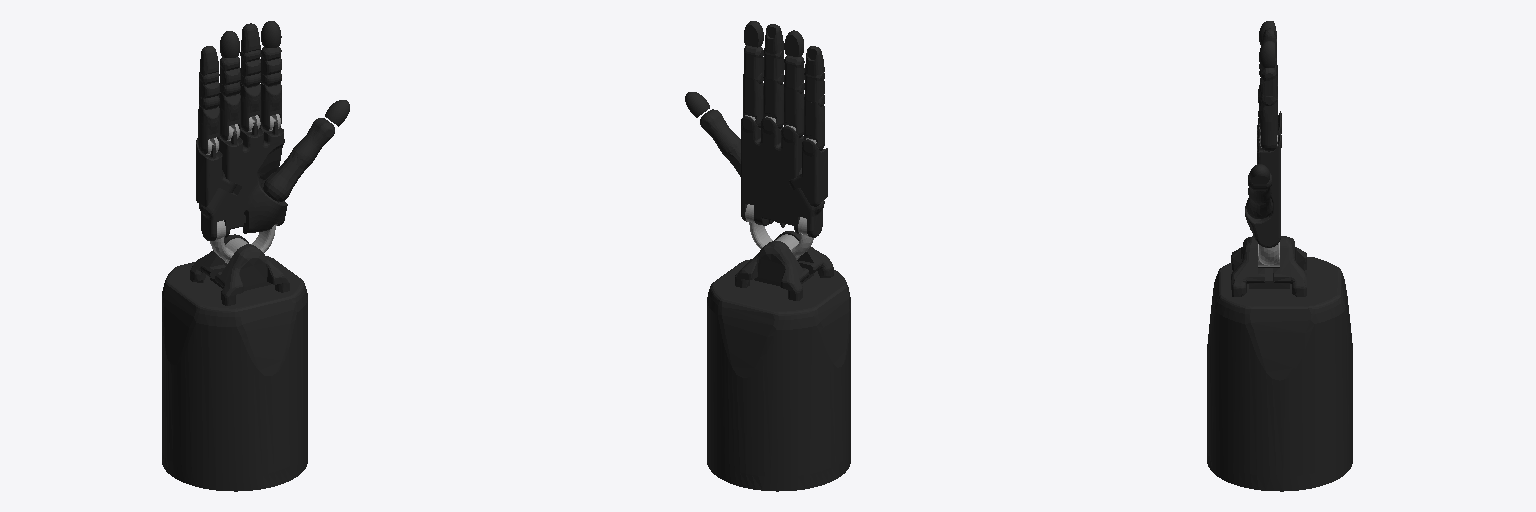
--- What the picture shows (computed from the rendered views, not written in the file) ---
Views: 3 orthographic renders of the robot side by side, from view 1: azimuth 30°, elevation 25°; view 2: azimuth 150°, elevation 25°; view 3: azimuth 270°, elevation 25°.
Model shadowhand with 30 links and 29 joints (24 revolute, 5 fixed), rooted at forearm, posed all joints at 0.
Links seen in each view (by area): view 1: forearm, palm, lfmetacarpal, thproximal, thmiddle, wrist, lfproximal, ffproximal, rfproximal, ffmiddle, rfmiddle, mfproximal (+2 smaller); view 2: forearm, palm, lfmetacarpal, wrist, thmiddle, lfproximal, mfproximal, rfproximal, ffproximal, rfmiddle, ffmiddle, mfmiddle (+1 smaller); view 3: forearm, palm, ffproximal, ffmiddle.
Boxes of the visible links, left/top/right/bottom form: forearm: left=162, top=234, right=307, bottom=491; palm: left=199, top=122, right=287, bottom=240; lfmetacarpal: left=196, top=138, right=236, bottom=206; thproximal: left=263, top=150, right=308, bottom=202; thmiddle: left=293, top=118, right=334, bottom=165; wrist: left=210, top=220, right=277, bottom=263; lfproximal: left=198, top=105, right=219, bottom=154; ffproximal: left=260, top=82, right=281, bottom=130; rfproximal: left=219, top=92, right=240, bottom=140; ffmiddle: left=261, top=47, right=281, bottom=86; rfmiddle: left=220, top=57, right=240, bottom=96; mfproximal: left=240, top=82, right=260, bottom=131; forearm: left=707, top=231, right=850, bottom=491; palm: left=741, top=116, right=824, bottom=237; lfmetacarpal: left=788, top=139, right=827, bottom=206; wrist: left=745, top=204, right=813, bottom=259; thmiddle: left=700, top=109, right=740, bottom=156; lfproximal: left=804, top=101, right=824, bottom=150; mfproximal: left=763, top=79, right=783, bottom=128; rfproximal: left=784, top=87, right=804, bottom=137; ffproximal: left=743, top=78, right=763, bottom=127; rfmiddle: left=784, top=55, right=804, bottom=93; ffmiddle: left=743, top=45, right=763, bottom=83; mfmiddle: left=763, top=50, right=784, bottom=84; forearm: left=1207, top=236, right=1352, bottom=491; palm: left=1245, top=113, right=1281, bottom=247; ffproximal: left=1258, top=99, right=1277, bottom=151; ffmiddle: left=1259, top=66, right=1277, bottom=105.
Size in the robot's own frame: 0.1788 by 0.1351 by 0.4454 metres.
Meshes: 11 distinct files referenced, 23 mesh visuals loaded (11 Collada DAE).

The robot description file, URDF, robot "shadowhand":
<?xml version="1.0" ?>
<robot name="shadowhand">
  <material name="Blue">
    <color rgba="0.0 0.0 0.8 1.0" />
  </material>
  <material name="Green">
    <color rgba="0.0 0.8 0.0 1.0" />
  </material>
  <material name="Grey">
    <color rgba="0.2 0.2 0.2 1.0" />
  </material>
  <material name="LightGrey">
    <color rgba="0.6 0.6 0.6 1.0" />
  </material>
  <material name="Red">
    <color rgba="0.8 0.0 0.0 1.0" />
  </material>
  <material name="White">
    <color rgba="1.0 1.0 1.0 1.0" />
  </material>
  <link name="forearm">
    <inertial>
      <origin rpy="0 0 0" xyz="0 0 0.09" />
      <mass value="3.0" />
      <inertia ixx="1.0" ixy="0.0" ixz="0.0" iyy="1.0" iyz="0.0" izz="1.0" />
    </inertial>
    <visual>
      <origin rpy="0 0 0" xyz="0 0 0" />
      <geometry name="shadow_forearm_geom">
        <mesh filename="meshes/forearm.dae"/>
      </geometry>
      <material name="Grey" />
    </visual>
    <collision>
      <origin rpy="0 0 0" xyz="0 0 0.09" />
      <geometry name="shadow_forearm_collision">
        <cylinder length="0.180" radius="0.06" />
      </geometry>
    </collision>
  </link>
  <link name="wrist">
    <inertial>
      <origin rpy="0 0 0" xyz="0 0.0 0.0" />
      <mass value="0.1" />
      <inertia ixx="0.120" ixy="0.0" ixz="0.0" iyy="0.148" iyz="0.0" izz="0.0438" />
    </inertial>
    <visual>
      <origin rpy="0 0 0" xyz="0 0 0" />
      <geometry name="wrist_visual">
        <mesh filename="meshes/wrist.dae"/>
      </geometry>
      <material name="LightGrey" />
    </visual>
    <collision>
      <origin rpy="0 0 0" xyz="0 0 0" />
      <geometry name="wrist_collision_geom">
        <box size="0.02 0.02 0.02" />
      </geometry>
    </collision>
  </link>
  <joint name="WRJ2" type="revolute">
    <parent link="forearm" />
    <child link="wrist" />
    <origin rpy="0 0 0" xyz="0 -0.010 0.213" />
    <axis xyz="0 1 0" />
    <limit effort="5" lower="-0.52359877559829882" upper="0.17453292519943295" velocity="1.0" />
    <dynamics damping="100.5" />
  </joint>
  <link name="palm">
    <inertial>
      <origin rpy="0 0 0" xyz="0 0 0.035" />
      <mass value="0.3" />
      <inertia ixx="0.5" ixy="0.0" ixz="0.0" iyy="0.5" iyz="0.0" izz="0.3" />
    </inertial>
    <visual>
      <origin rpy="0 0 0" xyz="0 0 0" />
      <geometry name="palm_visual">
        <mesh filename="meshes/palm.dae"/>
      </geometry>
      <material name="Grey" />
    </visual>
    <collision>
      <origin rpy="0 0 0" xyz="0.005 0 0.035" />
      <geometry name="palm_collision_geom">
        <box size="0.05 0.02 0.07" />
      </geometry>
    </collision>
  </link>
  <joint name="WRJ1" type="revolute">
    <parent link="wrist" />
    <child link="palm" />
    <origin rpy="0 0 0" xyz="0 0 0.034" />
    <axis xyz="1 0 0" />
    <limit effort="5" lower="-0.78539816339744828" upper="0.6108652381980153" velocity="1.0" />
    <dynamics damping="100.5" />
  </joint>
  <link name="ffknuckle">
    <inertial>
      <origin rpy="0 0 0" xyz="0 0 0" />
      <mass value="0.008" />
      <inertia ixx="0.0" ixy="0.0" ixz="0.0" iyy="0.1" iyz="0.0" izz="0.0" />
    </inertial>
    <visual>
      <origin rpy="0 0 0" xyz="0 0 0.0005" />
      <geometry name="knuckle_visual">
        <mesh filename="meshes/knuckle.dae"/>
      </geometry>
      <material name="LightGrey" />
    </visual>
    <collision>
      <origin rpy="0 0 0" xyz="0 0 0" />
      <geometry name="knuckle_collision_geom">
        <box size="0.005 0.005 0.005" />
      </geometry>
    </collision>
  </link>
  <joint name="FFJ4" type="revolute">
    <parent link="palm" />
    <child link="ffknuckle" />
    <origin rpy="0 0 0" xyz="0.033 0 0.095" />
    <axis xyz="0 -1 0" />
    <limit effort="100" lower="-0.43633231299858238" upper="0.43633231299858238" velocity="1.0" />
    <dynamics damping="50.5" />
  </joint>
  <link name="ffproximal">
    <inertial>
      <mass value="0.014" />
      <origin xyz="0 0 0.0225" />
      <inertia ixx="0.1" ixy="0.0" ixz="0.0" iyy="0.1" iyz="0.0" izz="0.0" />
    </inertial>
    <visual>
      <origin rpy="0 0 0" xyz="0 0 0" />
      <geometry name="proximal_visual">
        <mesh filename="meshes/F3.dae"/>
      </geometry>
      <material name="Grey" />
    </visual>
    <collision>
      <origin rpy="0 0 0 " xyz="0 0 0.025" />
      <geometry name="proximal_collision_geom">
        <box size="0.008 0.008 0.04" />
      </geometry>
    </collision>
  </link>
  <joint name="FFJ3" type="revolute">
    <parent link="ffknuckle" />
    <child link="ffproximal" />
    <origin rpy="0 0 0" xyz="0 0 0" />
    <axis xyz="1 0 0" />
    <limit effort="100" lower="0" upper="1.57079632679" velocity="1.0" />
    <dynamics damping="50.5" />
  </joint>
  <link name="ffmiddle">
    <inertial>
      <origin rpy="0 0 0" xyz="0 0 0.0125" />
      <mass value="0.012" />
      <inertia ixx="0.1" ixy="0.0" ixz="0.0" iyy="0.1" iyz="0.0" izz="0.0" />
    </inertial>
    <visual>
      <origin rpy="0 0 0" xyz="0 0 0" />
      <geometry name="middle_visual">
        <mesh filename="meshes/F2.dae"/>
      </geometry>
      <material name="Grey" />
    </visual>
    <collision>
      <origin rpy="0 0 0" xyz="0 0 0.0125" />
      <geometry name="middle_collision_geom">
        <box size="0.008 0.008 0.015" />
      </geometry>
    </collision>
  </link>
  <joint name="FFJ2" type="revolute">
    <parent link="ffproximal" />
    <child link="ffmiddle" />
    <origin rpy="0 0 0" xyz="0 0 0.045" />
    <axis xyz="1 0 0" />
    <limit effort="100" lower="0" upper="1.57079632679" velocity="1.0" />
    <dynamics damping="50.5" />
  </joint>
  <link name="ffdistal">
    <inertial>
      <mass value="0.010" />
      <origin xyz="0 0 0.013" />
      <inertia ixx="0.1" ixy="0.0" ixz="0.0" iyy="0.1" iyz="0.0" izz="0.0" />
    </inertial>
    <visual>
      <origin rpy="0 0 0" xyz="0 0 0" />
      <geometry name="distal_visual">
        <mesh filename="meshes/distal_ellipsoid.dae"/>
      </geometry>
      <material name="Grey" />
    </visual>
    <collision>
      <origin rpy="0 0 0" xyz="0 0 0" />
      <geometry name="distal_collision_geom">
        <mesh filename="meshes/distal_ellipsoid.dae"/>
      </geometry>
    </collision>
  </link>
  <joint name="FFJ1" type="revolute">
    <parent link="ffmiddle" />
    <child link="ffdistal" />
    <origin rpy="0 0 0" xyz="0 0 0.025" />
    <axis xyz="1 0 0" />
    <limit effort="100" lower="0" upper="1.57079632679" velocity="1.0" />
    <dynamics damping="50.5" />
  </joint>
  <link name="fftip">
    <inertial>
      <mass value="0.001" />
      <inertia ixx="0.0" ixy="0.0" ixz="0.0" iyy="0.0" iyz="0.0" izz="0.0" />
    </inertial>
  </link>
  <joint name="FFtip" type="fixed">
    <parent link="ffdistal" />
    <child link="fftip" />
    <origin rpy="0 0 0" xyz="0 0 0.026" />
  </joint>
  <link name="mfknuckle">
    <inertial>
      <origin rpy="0 0 0" xyz="0 0 0" />
      <mass value="0.008" />
      <inertia ixx="0.0" ixy="0.0" ixz="0.0" iyy="0.1" iyz="0.0" izz="0.0" />
    </inertial>
    <visual>
      <origin rpy="0 0 0" xyz="0 0 0.0005" />
      <geometry name="knuckle_visual">
        <mesh filename="meshes/knuckle.dae"/>
      </geometry>
      <material name="LightGrey" />
    </visual>
    <collision>
      <origin rpy="0 0 0" xyz="0 0 0" />
      <geometry name="knuckle_collision_geom">
        <box size="0.005 0.005 0.005" />
      </geometry>
    </collision>
  </link>
  <joint name="MFJ4" type="revolute">
    <parent link="palm" />
    <child link="mfknuckle" />

    <origin rpy="0 0 0" xyz="0.011 0 0.099" />
    <axis xyz="0 -1 0" />
    <limit effort="100" lower="-0.43633231299858238" upper="0.43633231299858238" velocity="1.0" />
    <dynamics damping="50.5" />
  </joint>
  <link name="mfproximal">
    <inertial>
      <mass value="0.014" />
      <origin xyz="0 0 0.0225" />
      <inertia ixx="0.1" ixy="0.0" ixz="0.0" iyy="0.1" iyz="0.0" izz="0.0" />
    </inertial>
    <visual>
      <origin rpy="0 0 0" xyz="0 0 0" />
      <geometry name="proximal_visual">
        <mesh filename="meshes/F3.dae"/>
      </geometry>
      <material name="Grey" />
    </visual>
    <collision>
      <origin rpy="0 0 0 " xyz="0 0 0.025" />
      <geometry name="proximal_collision_geom">
        <box size="0.008 0.008 0.04" />
      </geometry>
    </collision>
  </link>
  <joint name="MFJ3" type="revolute">
    <parent link="mfknuckle" />
    <child link="mfproximal" />
    <origin rpy="0 0 0" xyz="0 0 0" />
    <axis xyz="1 0 0" />
    <limit effort="100" lower="0" upper="1.57079632679" velocity="1.0" />
    <dynamics damping="50.5" />
  </joint>
  <link name="mfmiddle">
    <inertial>
      <origin rpy="0 0 0" xyz="0 0 0.0125" />
      <mass value="0.012" />
      <inertia ixx="0.1" ixy="0.0" ixz="0.0" iyy="0.1" iyz="0.0" izz="0.0" />
    </inertial>
    <visual>
      <origin rpy="0 0 0" xyz="0 0 0" />
      <geometry name="middle_visual">
        <mesh filename="meshes/F2.dae"/>
      </geometry>
      <material name="Grey" />
    </visual>
    <collision>
      <origin rpy="0 0 0" xyz="0 0 0.0125" />
      <geometry name="middle_collision_geom">
        <box size="0.008 0.008 0.015" />
      </geometry>
    </collision>
  </link>
  <joint name="MFJ2" type="revolute">
    <parent link="mfproximal" />
    <child link="mfmiddle" />
    <origin rpy="0 0 0" xyz="0 0 0.045" />
    <axis xyz="1 0 0" />
    <limit effort="100" lower="0" upper="1.57079632679" velocity="1.0" />
    <dynamics damping="50.5" />
  </joint>
  <link name="mfdistal">
    <inertial>
      <mass value="0.010" />
      <origin xyz="0 0 0.013" />
      <inertia ixx="0.1" ixy="0.0" ixz="0.0" iyy="0.1" iyz="0.0" izz="0.0" />
    </inertial>
    <visual>
      <origin rpy="0 0 0" xyz="0 0 0" />
      <geometry name="distal_visual">
        <mesh filename="meshes/F1.dae"/>
      </geometry>
      <material name="Grey" />
    </visual>
    <collision>
      <origin rpy="0 0 0" xyz="0 0 0" />
      <geometry name="distal_collision_geom">
        <mesh filename="meshes/F1.dae"/>
      </geometry>
    </collision>
  </link>
  <joint name="MFJ1" type="revolute">
    <parent link="mfmiddle" />
    <child link="mfdistal" />
    <origin rpy="0 0 0" xyz="0 0 0.025" />
    <axis xyz="1 0 0" />
    <limit effort="100" lower="0" upper="1.57079632679" velocity="1.0" />
    <dynamics damping="50.5" />
  </joint>
  <link name="mftip">
    <inertial>
      <mass value="0.001" />
      <inertia ixx="0.0" ixy="0.0" ixz="0.0" iyy="0.0" iyz="0.0" izz="0.0" />
    </inertial>
  </link>
  <joint name="MFtip" type="fixed">
    <parent link="mfdistal" />
    <child link="mftip" />
    <origin rpy="0 0 0" xyz="0 0 0.026" />
  </joint>
  <link name="rfknuckle">
    <inertial>
      <origin rpy="0 0 0" xyz="0 0 0" />
      <mass value="0.008" />
      <inertia ixx="0.0" ixy="0.0" ixz="0.0" iyy="0.1" iyz="0.0" izz="0.0" />
    </inertial>
    <visual>
      <origin rpy="0 0 0" xyz="0 0 0.0005" />
      <geometry name="knuckle_visual">
        <mesh filename="meshes/knuckle.dae"/>
      </geometry>
      <material name="LightGrey" />
    </visual>
    <collision>
      <origin rpy="0 0 0" xyz="0 0 0" />
      <geometry name="knuckle_collision_geom">
        <box size="0.005 0.005 0.005" />
      </geometry>
    </collision>
  </link>
  <joint name="RFJ4" type="revolute">
    <parent link="palm" />
    <child link="rfknuckle" />
    <origin rpy="0 0 0" xyz="-0.011 0 0.095" />
    <axis xyz="0 1 0" />
    <limit effort="100" lower="-0.43633231299858238" upper="0.43633231299858238" velocity="1.0" />
    <dynamics damping="50.5" />
  </joint>
  <link name="rfproximal">
    <inertial>
      <mass value="0.014" />
      <origin xyz="0 0 0.0225" />
      <inertia ixx="0.1" ixy="0.0" ixz="0.0" iyy="0.1" iyz="0.0" izz="0.0" />
    </inertial>
    <visual>
      <origin rpy="0 0 0" xyz="0 0 0" />
      <geometry name="proximal_visual">
        <mesh filename="meshes/F3.dae"/>
      </geometry>
      <material name="Grey" />
    </visual>
    <collision>
      <origin rpy="0 0 0 " xyz="0 0 0.025" />
      <geometry name="proximal_collision_geom">
        <box size="0.008 0.008 0.04" />
      </geometry>
    </collision>
  </link>
  <joint name="RFJ3" type="revolute">
    <parent link="rfknuckle" />
    <child link="rfproximal" />
    <origin rpy="0 0 0" xyz="0 0 0" />
    <axis xyz="1 0 0" />
    <limit effort="100" lower="0" upper="1.57079632679" velocity="1.0" />
    <dynamics damping="50.5" />
  </joint>
  <link name="rfmiddle">
    <inertial>
      <origin rpy="0 0 0" xyz="0 0 0.0125" />
      <mass value="0.012" />
      <inertia ixx="0.1" ixy="0.0" ixz="0.0" iyy="0.1" iyz="0.0" izz="0.0" />
    </inertial>
    <visual>
      <origin rpy="0 0 0" xyz="0 0 0" />
      <geometry name="middle_visual">
        <mesh filename="meshes/F2.dae"/>
      </geometry>
      <material name="Grey" />
    </visual>
    <collision>
      <origin rpy="0 0 0" xyz="0 0 0.0125" />
      <geometry name="middle_collision_geom">
        <box size="0.008 0.008 0.015" />
      </geometry>
    </collision>
  </link>
  <joint name="RFJ2" type="revolute">
    <parent link="rfproximal" />
    <child link="rfmiddle" />
    <origin rpy="0 0 0" xyz="0 0 0.045" />
    <axis xyz="1 0 0" />
    <limit effort="100" lower="0" upper="1.57079632679" velocity="1.0" />
    <dynamics damping="50.5" />
  </joint>
  <link name="rfdistal">
    <inertial>
      <mass value="0.010" />
      <origin xyz="0 0 0.013" />
      <inertia ixx="0.1" ixy="0.0" ixz="0.0" iyy="0.1" iyz="0.0" izz="0.0" />
    </inertial>
    <visual>
      <origin rpy="0 0 0" xyz="0 0 0" />
      <geometry name="distal_visual">
        <mesh filename="meshes/distal_ellipsoid.dae"/>
      </geometry>
      <material name="Grey" />
    </visual>

    <collision>
      <origin rpy="0 0 0" xyz="0 0 0" />
      <geometry name="distal_collision_geom">
        <mesh filename="meshes/distal_ellipsoid.dae"/>
      </geometry>
    </collision>
  </link>
  <joint name="RFJ1" type="revolute">
    <parent link="rfmiddle" />
    <child link="rfdistal" />
    <origin rpy="0 0 0" xyz="0 0 0.025" />
    <axis xyz="1 0 0" />
    <limit effort="100" lower="0" upper="1.57079632679" velocity="1.0" />
    <dynamics damping="50.5" />
  </joint>
  <link name="rftip">
    <inertial>
      <mass value="0.001" />
      <inertia ixx="0.0" ixy="0.0" ixz="0.0" iyy="0.0" iyz="0.0" izz="0.0" />
    </inertial>
  </link>
  <joint name="RFtip" type="fixed">
    <parent link="rfdistal" />
    <child link="rftip" />
    <origin rpy="0 0 0" xyz="0 0 0.026" />
  </joint>
  <link name="lfmetacarpal">
    <inertial>
      <origin rpy="0 0 0" xyz="0 0 0.04" />
      <mass value="0.075" />
      <inertia ixx="0.1" ixy="0.0" ixz="0.0" iyy="0.1" iyz="0.0" izz="0.1" />
    </inertial>
    <visual>
      <origin rpy="0 0 0" xyz="0 0 0" />
      <geometry name="lfmetacarpal_visual">
        <mesh filename="meshes/lfmetacarpal.dae"/>
      </geometry>
      <material name="Grey" />
    </visual>
    <collision>
      <origin rpy="0 0 0" xyz="0 0 0.04" />
      <geometry name="lfmetacarpal_collision_geom">
        <box size="0.008 0.008 0.03" />
      </geometry>
    </collision>
  </link>
  <joint name="LFJ5" type="revolute">
    <parent link="palm" />
    <child link="lfmetacarpal" />
    <origin rpy="0 0 0" xyz="-0.033 0 0.02071" />
    <axis xyz="0.573576436 0 0.819152044" />
    <limit effort="100" lower="0" upper="0.69813170079773179" velocity="1.0" />
    <dynamics damping="50.5" />
  </joint>
  <link name="lfknuckle">
    <inertial>
      <origin rpy="0 0 0" xyz="0 0 0.06579" />
      <mass value="0.008" />
      <inertia ixx="0.1" ixy="0.0" ixz="0.0" iyy="0.1" iyz="0.0" izz="0.1" />
    </inertial>
    <visual>
      <origin rpy="0 0 0" xyz="0 0 0" />
      <geometry name="knuckle_visual">
        <mesh filename="meshes/knuckle.dae"/>
      </geometry>
      <material name="LightGrey" />
    </visual>
    <collision>
      <origin rpy="0 0 0" xyz="0 0 0" />
      <geometry name="knuckle_collision_geom">
        <box size="0.005 0.005 0.005" />
      </geometry>
    </collision>
  </link>
  <joint name="LFJ4" type="revolute">
    <parent link="lfmetacarpal" />
    <child link="lfknuckle" />
    <origin rpy="0 0 0" xyz="0 0 0.06579" />
    <axis xyz="0 1 0" />
    <limit effort="100" lower="-0.43633231299858238" upper="0.43633231299858238" velocity="1.0" />
    <dynamics damping="50.5" />
  </joint>
  <link name="lfproximal">
    <inertial>
      <mass value="0.014" />
      <origin xyz="0 0 0.0225" />
      <inertia ixx="0.1" ixy="0.0" ixz="0.0" iyy="0.1" iyz="0.0" izz="0.0" />
    </inertial>
    <visual>
      <origin rpy="0 0 0" xyz="0 0 0" />
      <geometry name="proximal_visual">
        <mesh filename="meshes/F3.dae"/>
      </geometry>
      <material name="Grey" />
    </visual>
    <collision>
      <origin rpy="0 0 0 " xyz="0 0 0.025" />
      <geometry name="proximal_collision_geom">
        <box size="0.008 0.008 0.04" />
      </geometry>
    </collision>
  </link>
  <joint name="LFJ3" type="revolute">
    <parent link="lfknuckle" />
    <child link="lfproximal" />
    <origin rpy="0 0 0" xyz="0 0 0" />
    <axis xyz="1 0 0" />
    <limit effort="100" lower="0" upper="1.57079632679" velocity="1.0" />
    <dynamics damping="50.5" />
  </joint>
  <link name="lfmiddle">
    <inertial>
      <origin rpy="0 0 0" xyz="0 0 0.0125" />
      <mass value="0.012" />
      <inertia ixx="0.1" ixy="0.0" ixz="0.0" iyy="0.1" iyz="0.0" izz="0.0" />
    </inertial>
    <visual>
      <origin rpy="0 0 0" xyz="0 0 0" />
      <geometry name="middle_visual">
        <mesh filename="meshes/F2.dae"/>
      </geometry>
      <material name="Grey" />
    </visual>
    <collision>
      <origin rpy="0 0 0" xyz="0 0 0.0125" />
      <geometry name="middle_collision_geom">
        <box size="0.008 0.008 0.015" />
      </geometry>
    </collision>
  </link>
  <joint name="LFJ2" type="revolute">
    <parent link="lfproximal" />
    <child link="lfmiddle" />
    <origin rpy="0 0 0" xyz="0 0 0.045" />
    <axis xyz="1 0 0" />
    <limit effort="100" lower="0" upper="1.57079632679" velocity="1.0" />
    <dynamics damping="50.5" />
  </joint>
  <link name="lfdistal">
    <inertial>
      <mass value="0.010" />
      <origin xyz="0 0 0.013" />
      <inertia ixx="0.1" ixy="0.0" ixz="0.0" iyy="0.1" iyz="0.0" izz="0.0" />
    </inertial>
    <visual>
      <origin rpy="0 0 0" xyz="0 0 0" />
      <geometry name="distal_visual">
        <mesh filename="meshes/F1.dae"/>
      </geometry>
      <material name="Grey" />
    </visual>

    <collision>
      <origin rpy="0 0 0" xyz="0 0 0" />
      <geometry name="distal_collision_geom">
        <mesh filename="meshes/F1.dae"/>
      </geometry>
    </collision>
  </link>
  <joint name="LFJ1" type="revolute">
    <parent link="lfmiddle" />
    <child link="lfdistal" />
    <origin rpy="0 0 0" xyz="0 0 0.025" />
    <axis xyz="1 0 0" />
    <limit effort="100" lower="0" upper="1.57079632679" velocity="1.0" />
    <dynamics damping="50.5" />
  </joint>
  <link name="lftip">
    <inertial>
      <mass value="0.001" />
      <inertia ixx="0.0" ixy="0.0" ixz="0.0" iyy="0.0" iyz="0.0" izz="0.0" />
    </inertial>
  </link>
  <joint name="LFtip" type="fixed">
    <parent link="lfdistal" />
    <child link="lftip" />
    <origin rpy="0 0 0" xyz="0 0 0.026" />
  </joint>
  <link name="thbase">
    <inertial>
      <mass value="0.010" />
      <origin rpy="0 0 0" xyz="0 0 0" />
      <inertia ixx="0.0" ixy="0.0" ixz="0.0" iyy="0.0" iyz="0.0" izz="0.1" />
    </inertial>
    <visual>
      <origin rpy="0 0 0" xyz="0 0 0" />
      <geometry name="thbase_visual">
        <box size="0.001 0.001 0.001" />
      </geometry>
      <material name="shadow_thbase_material">
        <color rgba="0.5 0.5 0.5 1.0" />
      </material>
    </visual>
    <collision>
      <origin rpy="0 0 0 " xyz="0 0 0" />
      <geometry name="thbase_collision_geom">
        <box size="0.001 0.001 0.001" />
      </geometry>
    </collision>
  </link>
  <joint name="THJ5" type="revolute">
    <parent link="palm" />
    <child link="thbase" />
    <origin rpy="0 0.785398163397 0" xyz="0.034 -0.0085 0.029" />
    <axis xyz="0 0 -1.0" />
    <limit effort="100" lower="-1.047" upper="1.047" velocity="1.0" />
    <dynamics damping="50.5" />
  </joint>
  <link name="thproximal">
    <inertial>
      <mass value="0.016" />
      <origin rpy="0 0 0" xyz="0 0 0.019" />
      <inertia ixx="0.1" ixy="0.0" ixz="0.0" iyy="0.1" iyz="0.0" izz="0.1" />
    </inertial>
    <visual>
      <origin rpy="0 0 0" xyz="0 0 0" />
      <geometry name="thproximal_visual">
        <mesh filename="meshes/TH3_z.dae"/>
      </geometry>
      <material name="shadow_thproximal_material">
        <color rgba="0.2 0.2 0.2 1.0" />
      </material>
    </visual>
    <collision>
      <origin rpy="0 0 0" xyz="0 0 0.019" />
      <geometry name="thproximal_collision_geom">
        <box size="0.008 0.008 0.020" />
      </geometry>
    </collision>
  </link>
  <joint name="THJ4" type="revolute">
    <parent link="thbase" />
    <child link="thproximal" />
    <origin rpy="0 0 0" xyz="0 0 0" />
    <axis xyz="1.0 0 0" />
    <limit effort="100" lower="0" upper="1.309" velocity="1.0" />
    <dynamics damping="50.5" />
  </joint>
  <link name="thhub">
    <inertial>
      <mass value="0.002" />
      <origin rpy="0 0 0" xyz="0 0 0" />
      <inertia ixx="0.1" ixy="0.0" ixz="0.0" iyy="0.1" iyz="0.0" izz="0.1" />
    </inertial>
    <visual>
      <origin rpy="0 0 0" xyz="0 0 0" />
      <geometry name="thhub_visual">
        <box size="0.001 0.001 0.001" />
      </geometry>
      <material name="shadow_thhub_material">
        <color rgba="0.7 0.7 0.7 1.0" />
      </material>
    </visual>
    <collision>
      <origin rpy="0 0 0 " xyz="0 0 0" />
      <geometry name="thhub_collision_geom">
        <box size="0.001 0.001 0.001" />
      </geometry>
    </collision>
  </link>
  <joint name="THJ3" type="revolute">
    <parent link="thproximal" />
    <child link="thhub" />
    <origin rpy="0 0 0" xyz="0 0 0.038" />
    <axis xyz="1 0 0" />
    <limit effort="100" lower="-0.2618" upper="0.2618" velocity="1.0" />
    <dynamics damping="50.5" />
  </joint>
  <link name="thmiddle">
    <inertial>
      <mass value="0.016" />
      <origin rpy="0 0 0" xyz="0 0 0.016" />
      <inertia ixx="0.1" ixy="0.0" ixz="0.0" iyy="0.1" iyz="0.0" izz="0.1" />
    </inertial>
    <visual>
      <origin rpy="0 0 0" xyz="0 0 0" />
      <geometry name="thmiddle_visual">
        <mesh filename="meshes/TH2_z.dae"/>
      </geometry>
      <material name="shadow_thmiddle_material">
        <color rgba="0.2 0.2 0.2 1.0" />
      </material>
    </visual>
    <collision>
      <origin rpy="0 0 0 " xyz="0 0 0.016" />
      <geometry name="thmiddle_collision_geom">
        <box size="0.008 0.008 0.015" />
      </geometry>
    </collision>
  </link>
  <joint name="THJ2" type="revolute">
    <parent link="thhub" />
    <child link="thmiddle" />
    <origin rpy="0 0 0" xyz="0 0 0" />
    <axis xyz="0 -1 0" />
    <limit effort="100" lower="-0.5237" upper="0.5237" velocity="1.0" />
    <dynamics damping="50.5" />
  </joint>
  <link name="thdistal">
    <inertial>
      <mass value="0.016" />
      <origin rpy="0 0 0" xyz="0 0 0.01375" />
      <inertia ixx="0.1" ixy="0.0" ixz="0.0" iyy="0.1" iyz="0.0" izz="0.1" />
    </inertial>
    <visual>
      <origin rpy="0 0 0" xyz="0 0.002 0.0025" />
      <geometry name="thdistal_visual">
        <mesh filename="meshes/distal_ellipsoid.dae"/>
      </geometry>
      <material name="shadow_thmiddle_material">
        <color rgba="0.2 0.2 0.2 1.0" />
      </material>
    </visual>
    <collision>
      <origin rpy="0 0 0 " xyz="0 0.002 0.0025" />
      <geometry name="thmiddle_collision_geom">
        <mesh filename="meshes/distal_ellipsoid.dae"/>
      </geometry>
    </collision>
  </link>
  <joint name="THJ1" type="revolute">
    <parent link="thmiddle" />
    <child link="thdistal" />
    <origin rpy="0 0 -1.570796327" xyz="0 0 0.032" />
    <axis xyz="1 0 0" />
    <limit effort="100" lower="0" upper="1.571" velocity="1.0" />
    <dynamics damping="50.5" />
  </joint>
  <link name="thtip">
    <inertial>
      <mass value="0.001" />
      <inertia ixx="0.0" ixy="0.0" ixz="0.0" iyy="0.0" iyz="0.0" izz="0.0" />
    </inertial>
  </link>
  <joint name="thtip" type="fixed">
    <parent link="thdistal" />
    <child link="thtip" />
    <origin rpy="0 0 0" xyz="0 0 0.0275" />
  </joint>
  </robot>
